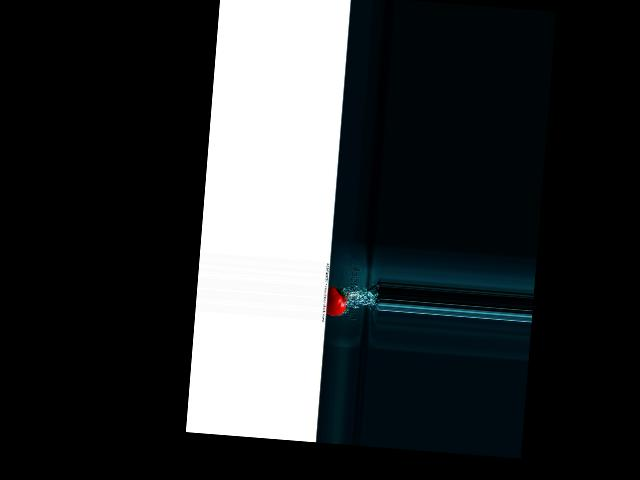tomato: (325, 285, 347, 316)
